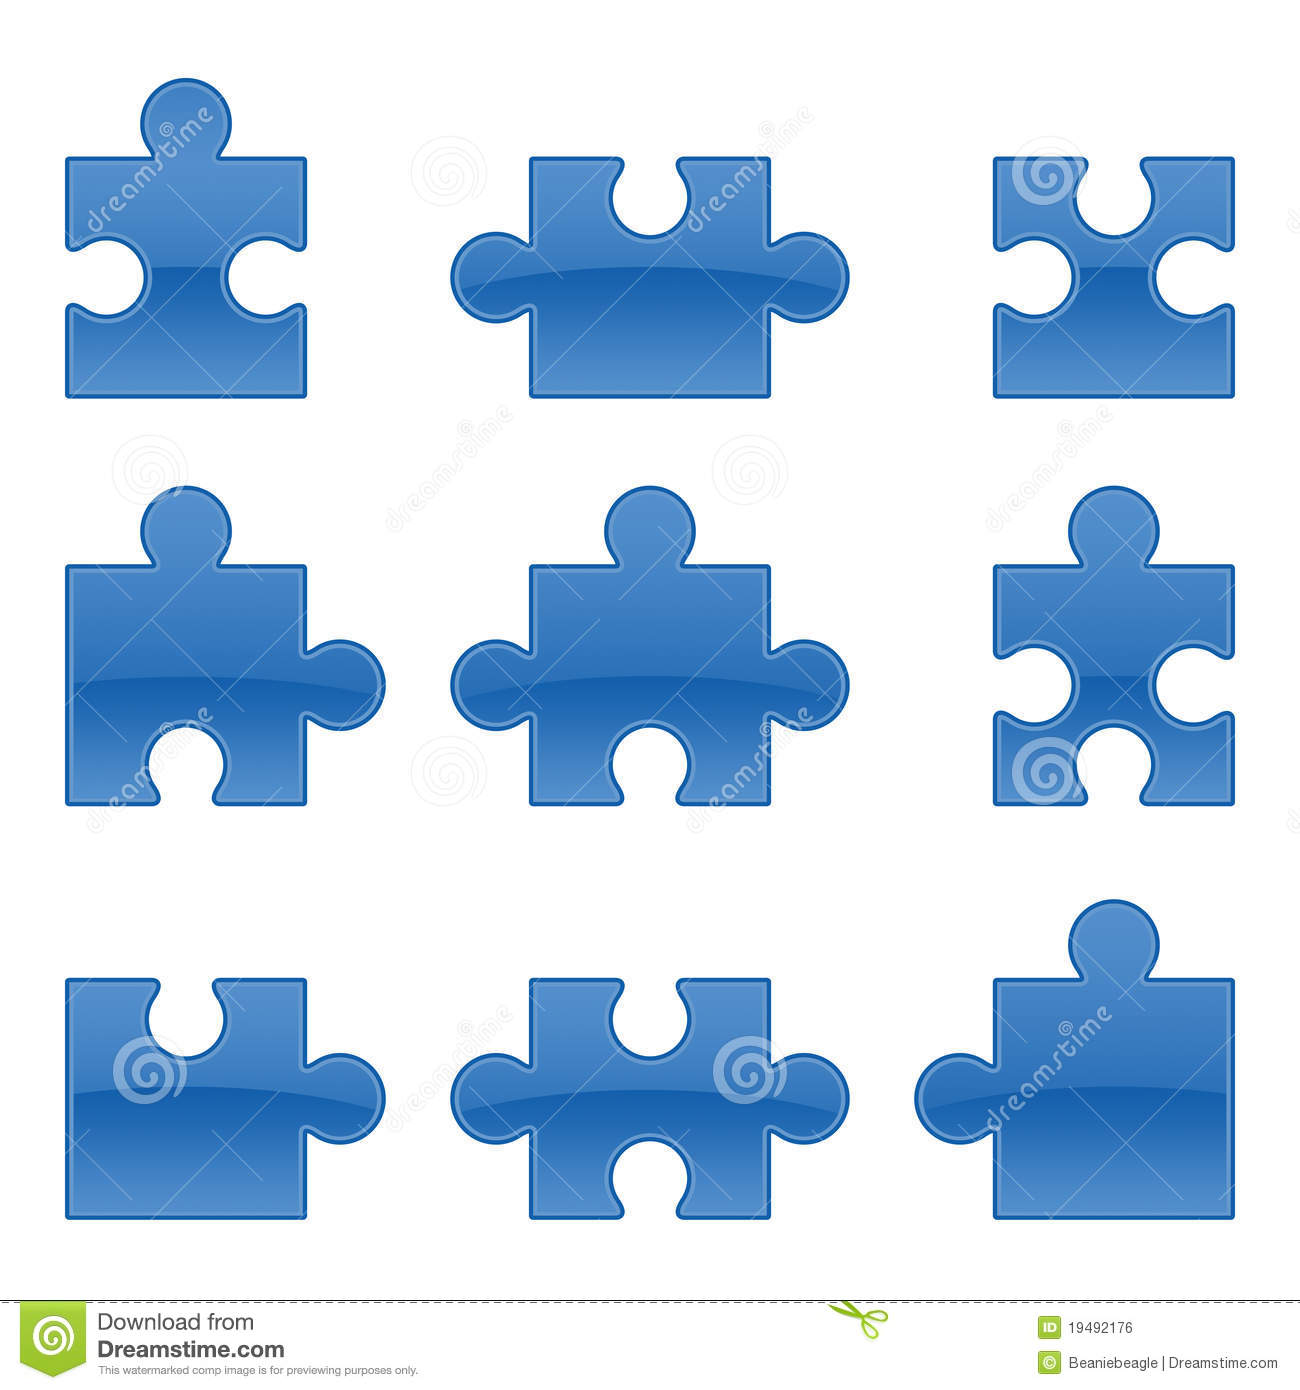puzzle piece: (878, 857, 1265, 1252), (35, 440, 425, 823), (429, 919, 861, 1250), (455, 104, 900, 417), (944, 445, 1273, 842), (32, 934, 408, 1261), (53, 55, 330, 421), (968, 114, 1258, 431)
